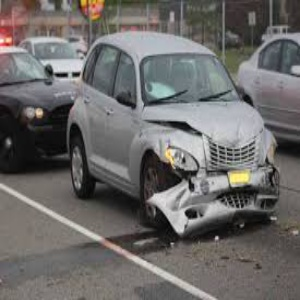bonnet: (172, 98, 266, 143)
bumper: (144, 167, 283, 234)
